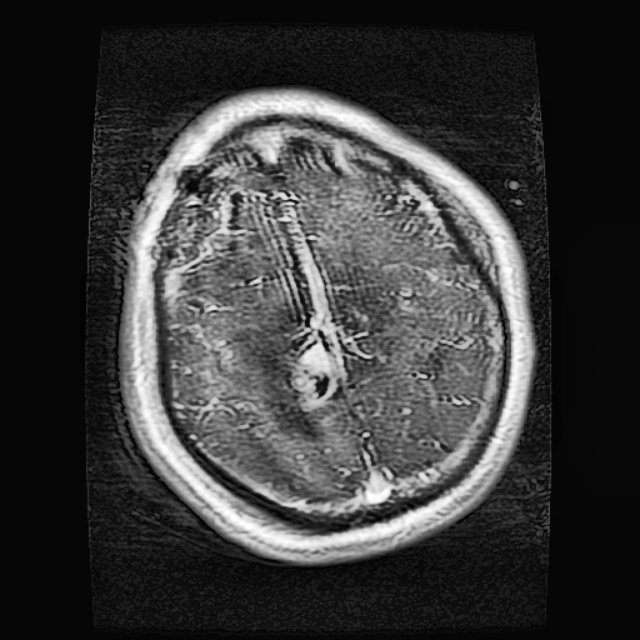Pituitary: (289, 338, 342, 405)
